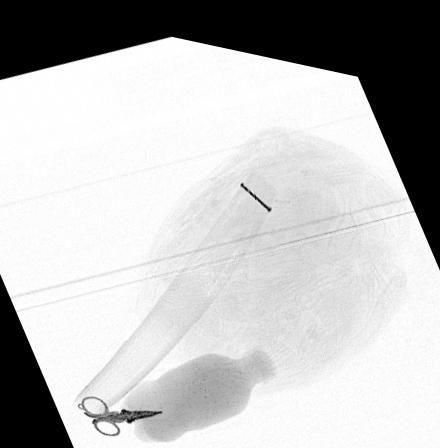Scissors: (77, 390, 162, 432)
